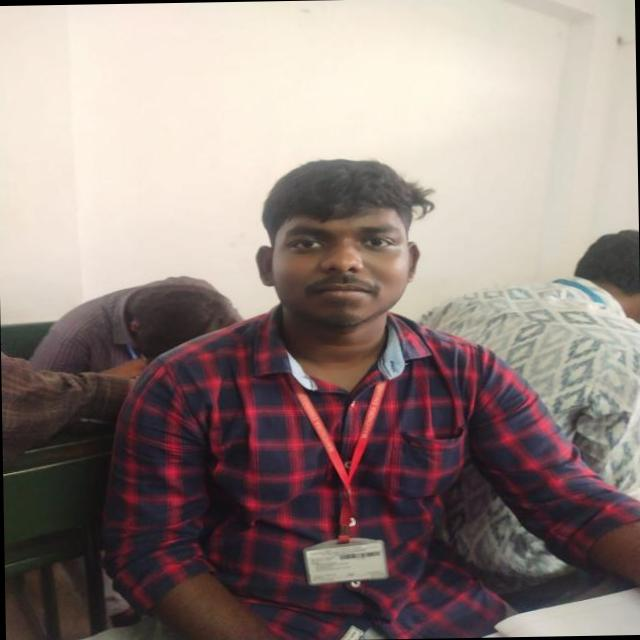id_card: (291, 369, 388, 584)
